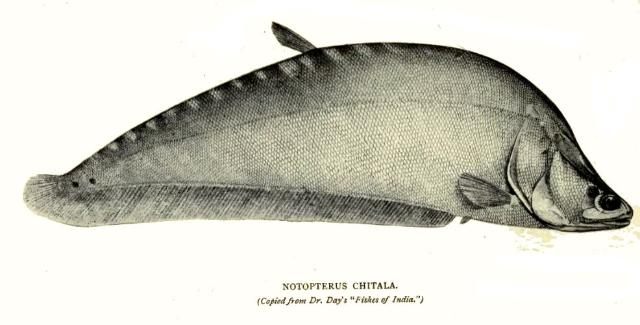Mulut: (566, 190, 640, 238)
Sirip Dada: (455, 170, 521, 212)
Sirip Perut: (454, 210, 478, 228)
Sirip Punggung: (268, 17, 326, 57)
